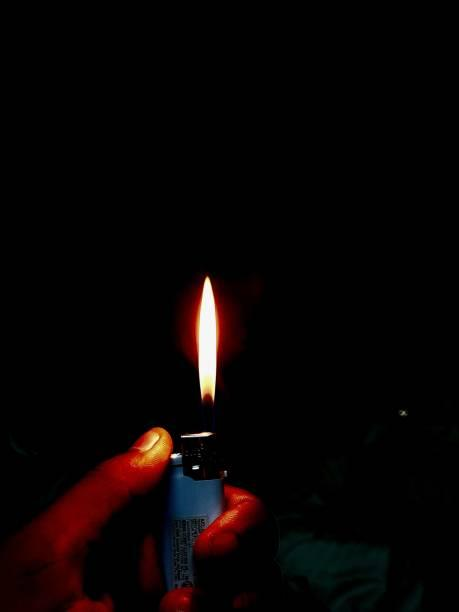Fire: (183, 263, 233, 405)
